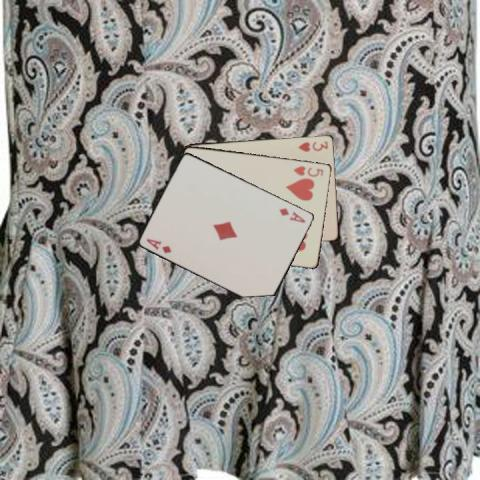3h: (296, 138, 330, 153)
5h: (290, 163, 325, 178)
Ad: (144, 235, 174, 255), (277, 205, 307, 224)
